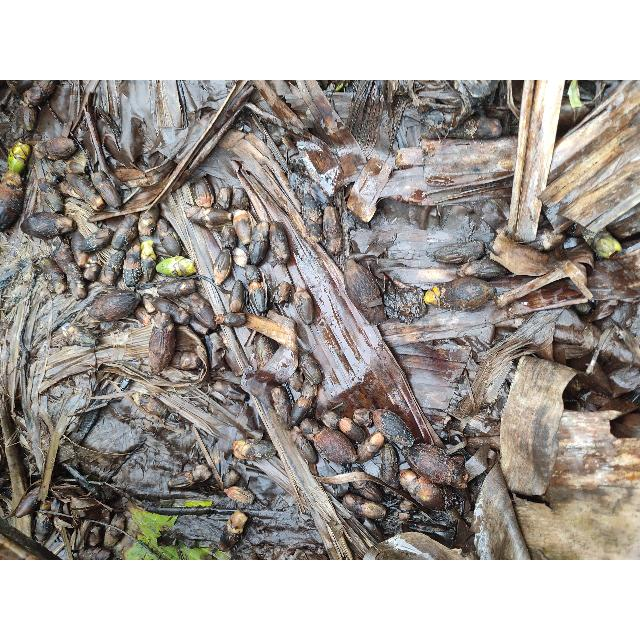damaged: (468, 311, 560, 403), (144, 382, 234, 448), (36, 393, 80, 509), (496, 260, 592, 308), (2, 400, 32, 540), (290, 80, 348, 146), (411, 300, 504, 340), (488, 229, 560, 279), (582, 245, 640, 303), (38, 345, 104, 389), (293, 138, 343, 196), (346, 157, 389, 223), (2, 295, 30, 393), (427, 176, 511, 207), (402, 442, 456, 490), (562, 364, 626, 404), (230, 312, 296, 350), (60, 429, 142, 456), (380, 166, 430, 210), (382, 268, 422, 322), (435, 276, 497, 310), (343, 257, 379, 315), (399, 468, 441, 512), (552, 308, 594, 352), (378, 532, 448, 558), (84, 292, 140, 324), (312, 428, 354, 468), (438, 112, 498, 140), (576, 224, 622, 260), (372, 408, 412, 448), (148, 314, 176, 371), (20, 211, 74, 239), (156, 81, 186, 131), (252, 540, 326, 560), (585, 328, 613, 377), (556, 96, 592, 134), (68, 404, 102, 444), (48, 82, 78, 126), (518, 226, 568, 252), (560, 238, 596, 274), (90, 170, 122, 210), (0, 178, 24, 230), (220, 509, 248, 553), (606, 205, 640, 241), (188, 206, 235, 232), (434, 241, 484, 265), (30, 137, 78, 161), (0, 257, 32, 293), (168, 464, 212, 490), (111, 213, 141, 251), (38, 256, 68, 294), (230, 438, 276, 462), (460, 258, 510, 280), (343, 494, 385, 520), (9, 488, 43, 520), (36, 178, 66, 214), (68, 492, 104, 522), (378, 443, 399, 493), (74, 227, 114, 253), (133, 392, 169, 420), (49, 237, 77, 273), (57, 324, 99, 348), (157, 218, 183, 256), (268, 221, 290, 265), (102, 249, 128, 285), (22, 80, 58, 106), (122, 246, 144, 288), (356, 431, 384, 464), (250, 220, 270, 266), (156, 278, 200, 298), (323, 208, 341, 256), (298, 350, 322, 386), (272, 387, 292, 429), (190, 298, 218, 328), (466, 471, 488, 509), (288, 159, 314, 191), (289, 395, 313, 429), (294, 284, 314, 324), (233, 208, 253, 248), (157, 256, 197, 276), (564, 80, 600, 102), (63, 196, 95, 220), (7, 142, 31, 174), (33, 511, 55, 544), (214, 246, 232, 286), (253, 335, 274, 369), (104, 514, 125, 548), (138, 206, 160, 238), (296, 437, 318, 468), (302, 192, 322, 226), (4, 228, 30, 254), (338, 418, 366, 442), (342, 206, 366, 234), (212, 381, 244, 402), (192, 178, 214, 208), (64, 263, 86, 293), (249, 277, 267, 313), (354, 481, 384, 502), (173, 350, 204, 370), (408, 520, 452, 534), (141, 246, 157, 284), (17, 102, 37, 132), (224, 486, 254, 506), (326, 474, 350, 498), (270, 280, 292, 306), (70, 242, 92, 268), (298, 376, 318, 404), (306, 222, 324, 252), (264, 122, 286, 146), (184, 292, 210, 312), (220, 224, 238, 252), (77, 546, 113, 560), (96, 216, 120, 237), (2, 168, 24, 190), (4, 81, 34, 97), (394, 498, 418, 518), (230, 279, 244, 313), (215, 186, 233, 212), (231, 187, 249, 213), (83, 260, 103, 282), (280, 134, 300, 156), (232, 245, 250, 269), (85, 524, 103, 548), (216, 312, 246, 326), (352, 408, 372, 428), (322, 410, 342, 430), (244, 264, 262, 286), (170, 306, 192, 324), (288, 368, 304, 392), (50, 159, 70, 177), (222, 468, 240, 488), (47, 235, 65, 255), (66, 160, 88, 176), (231, 118, 251, 134), (86, 252, 102, 268)
